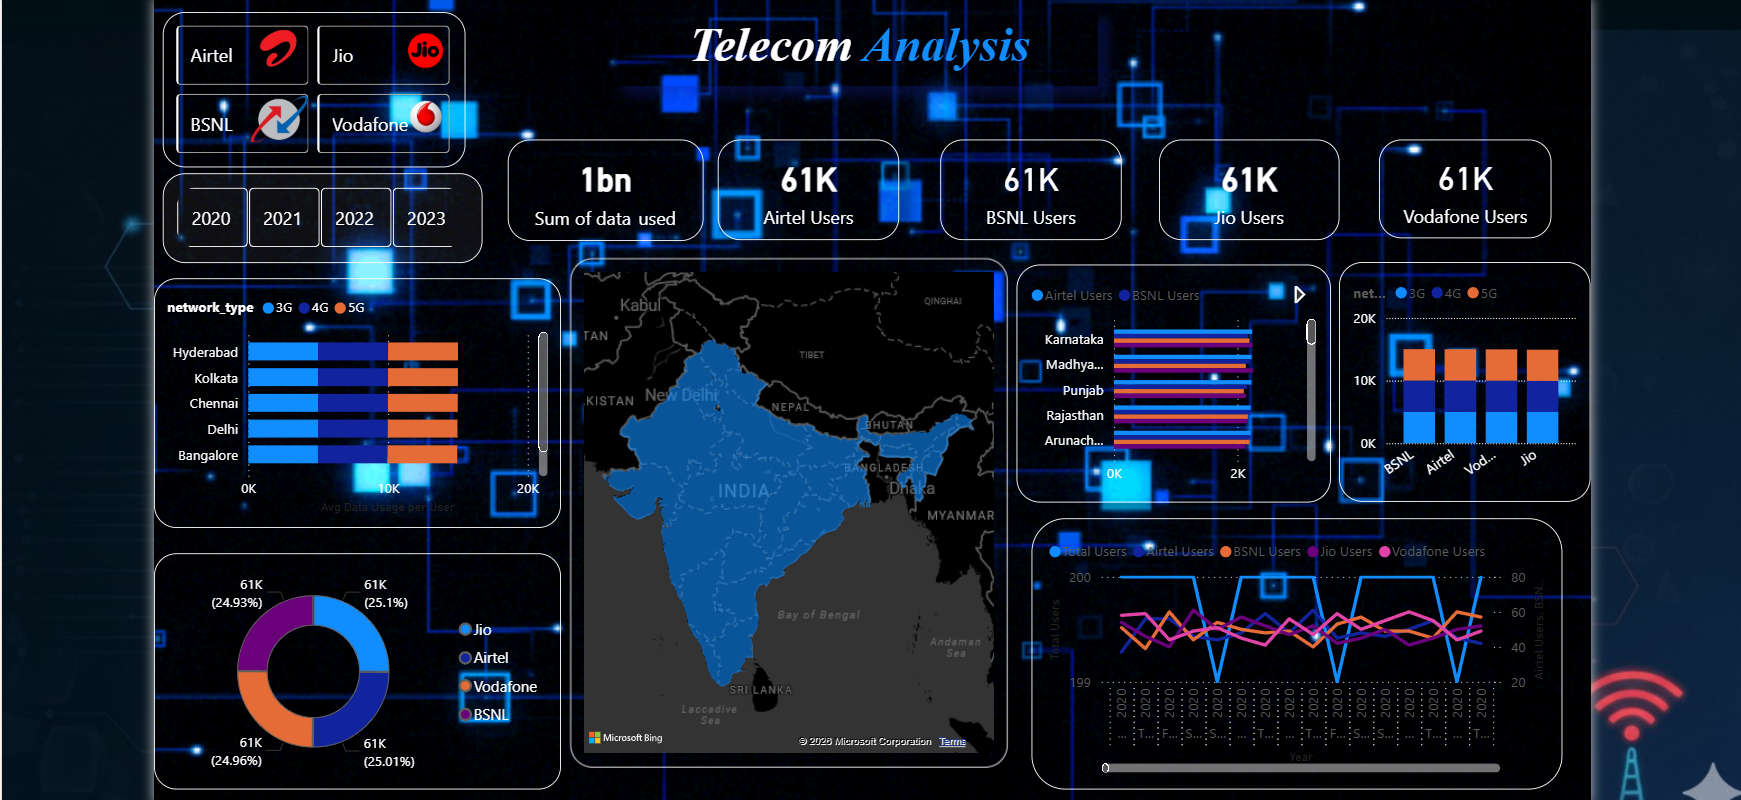

What the dashboard file says about the page in this screenshot:
{"tool":"powerbi","page":{"name":"Page 1","canvas":[1280,720],"ordinal":0},"visuals":[{"type":"card","fields":{"Values":["Sum(telecom.data_used)"]},"box":[315,126.7,174.1,90],"z":0},{"type":"card","fields":{"Values":["telecom.Jio Customers"]},"box":[895.3,126.7,160.5,89.5],"z":1000},{"type":"card","fields":{"Values":["telecom.Airtel Customers"]},"box":[502.3,126.7,161.6,89.5],"z":2000},{"type":"card","fields":{"Values":["telecom.Vodafone Users"]},"box":[1090.7,126.7,154,87.6],"z":3000},{"type":"card","fields":{"Values":["telecom.BSNL Users"]},"box":[700,126.7,161.6,89.5],"z":4000},{"type":"donutChart","fields":{"Y":["telecom.Total Users"],"Category":["telecom.telecom_partner"]},"box":[0,495.3,362.8,210.5],"z":5000},{"type":"filledMap","fields":{"X":["telecom.Total Users"],"Category":["telecom.state"]},"box":[370.9,232.6,389.5,453.5],"z":6000},{"type":"clusteredBarChart","fields":{"Category":["telecom.state"],"Y":["telecom.Airtel Users","telecom.BSNL Users","telecom.Vodafone Users","telecom.Jio Users"]},"box":[768.5,237.7,279.9,212.3],"z":7000},{"type":"columnChart","fields":{"Category":["Dim_Operator.telecom_partner"],"Y":["telecom.Avg Data Usage per User"],"Series":["Network.network_type"]},"box":[1055.6,236.5,224.4,213.5],"z":8000},{"type":"lineChart","fields":{"Y":["telecom.Total Users"],"Category":["telecom.date_of_registration","Dim_Date.Year"],"Y2":["telecom.Airtel Users","telecom.BSNL Users","telecom.Jio Users","telecom.Vodafone Users"]},"box":[781.8,464.5,472.9,241.3],"z":9000},{"type":"textbox","box":[412.4,13.1,427.9,65.6],"z":10000},{"type":"barChart","fields":{"Category":["telecom.city"],"Y":["telecom.Avg Data Usage per User"],"Series":["Network.network_type"]},"box":[0,250,362.8,222.1],"z":11000},{"type":"advancedSlicerVisual","fields":{"Values":["Dim_Operator.telecom_partner"]},"box":[8.3,13.1,269.4,138.3],"z":12000},{"type":"advancedSlicerVisual","fields":{"Values":["Dim_Date.Year"]},"box":[8.3,157.3,284.9,79.9],"z":13000},{"type":"image","box":[207.5,19.3,70,57.9],"z":14000},{"type":"image","box":[89.3,29,43.4,33.8],"z":15000},{"type":"image","box":[207.3,77,69.9,56.8],"z":16000},{"type":"image","box":[66.4,82,89.3,51.9],"z":17000}]}

Visuals, with their boxes in screenshot pixels (x1, y1, x2, y2):
card - Sum(telecom.data_used): region(497, 130, 695, 232)
card - telecom.Jio Customers: region(1155, 130, 1337, 231)
card - telecom.Airtel Customers: region(710, 130, 893, 231)
card - telecom.Vodafone Users: region(1376, 130, 1551, 229)
card - telecom.BSNL Users: region(934, 130, 1117, 231)
donutChart - telecom.Total Users x telecom.telecom_partner: region(141, 548, 552, 786)
filledMap - telecom.Total Users x telecom.state: region(561, 250, 1002, 764)
clusteredBarChart - telecom.state x telecom.Airtel Users: region(1011, 256, 1329, 496)
columnChart - Dim_Operator.telecom_partner x telecom.Avg Data Usage per User: region(1337, 254, 1591, 496)
lineChart - telecom.Total Users x telecom.date_of_registration: region(1026, 513, 1562, 786)
textbox: region(608, 1, 1093, 76)
barChart - telecom.city x telecom.Avg Data Usage per User: region(141, 270, 552, 521)
advancedSlicerVisual - Dim_Operator.telecom_partner: region(150, 1, 455, 158)
advancedSlicerVisual - Dim_Date.Year: region(150, 165, 473, 255)
image: region(376, 8, 455, 74)
image: region(242, 19, 291, 58)
image: region(375, 74, 455, 138)
image: region(216, 79, 317, 138)
